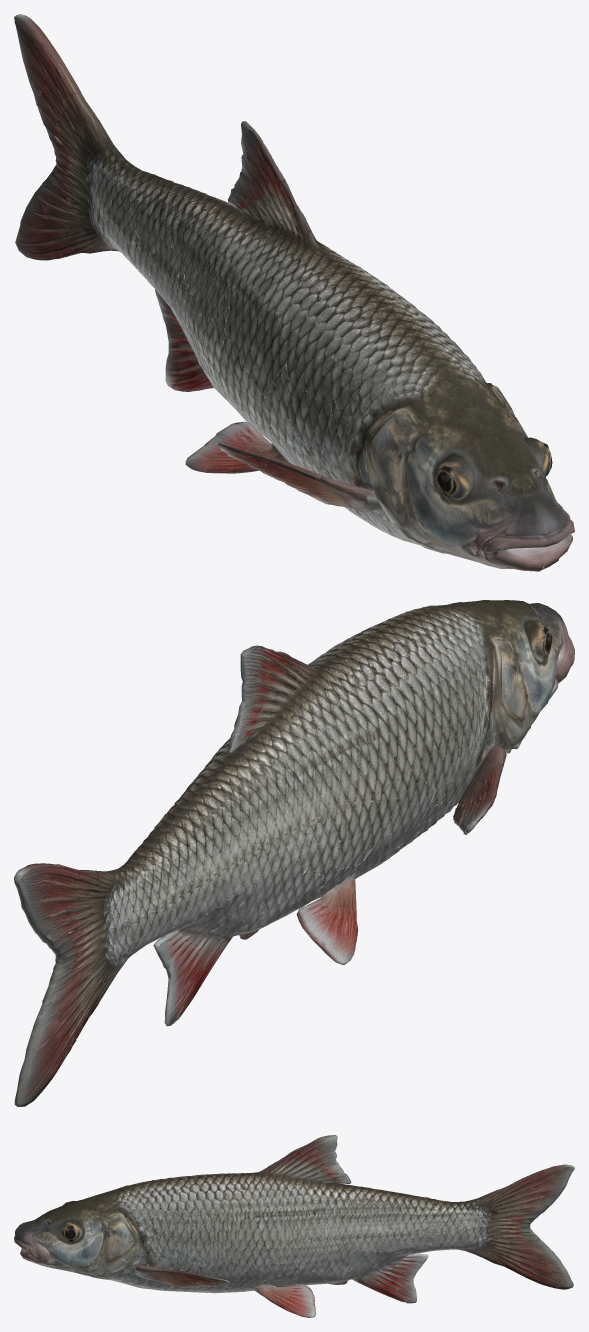
Rendered from swinka.glb.
3 views of the same model, one above another, from view 1: azimuth 30°, elevation 25°; view 2: azimuth 150°, elevation 25°; view 3: azimuth 270°, elevation 25° (orthographic). The views are drawn at different scales.
Parts seen in each view (by area): view 1: Mesh_0; view 2: Mesh_0; view 3: Mesh_0.
Boxes of the visible parts, left/top/right/bottom form: Mesh_0: left=14, top=14, right=574, bottom=571; Mesh_0: left=14, top=600, right=574, bottom=1106; Mesh_0: left=14, top=1135, right=574, bottom=1317.
Size of the model in its own units: 0.5339 by 0.6305 by 1.9.
1 material, 1 textured.
